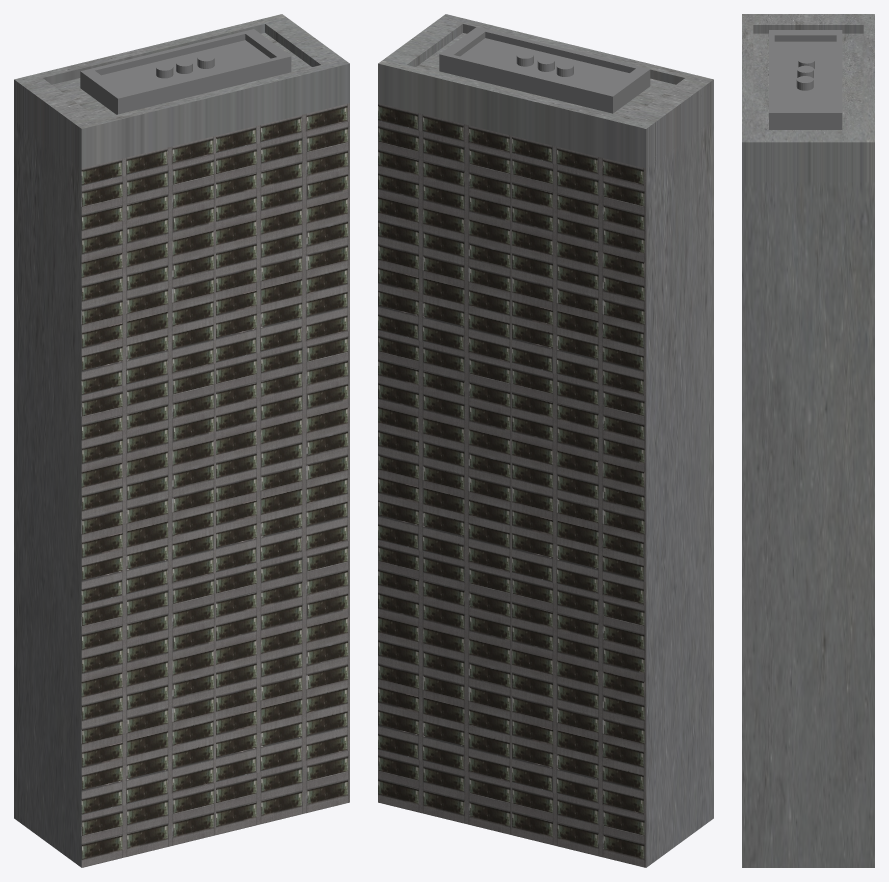
The model's file is blue-skyscrapper-building.glb.
3 views of the same model, side by side, from view 1: azimuth 30°, elevation 25°; view 2: azimuth 150°, elevation 25°; view 3: azimuth 270°, elevation 25° (orthographic).
Visible parts, largest first — view 1: Cube.003; view 2: Cube.003; view 3: Cube.003.
Part boxes in pixels (x1,y1,x2,y2): Cube.003: (14,14,349,867); Cube.003: (378,14,713,867); Cube.003: (742,14,874,867).
Size of the model in its own units: 20.07 by 53.54 by 8.78.
2 materials, 2 textured.
